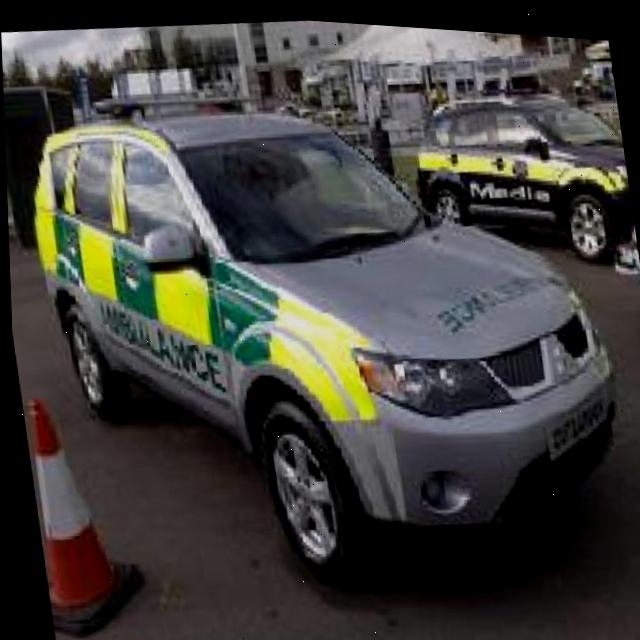emergency: (11, 52, 640, 622)
